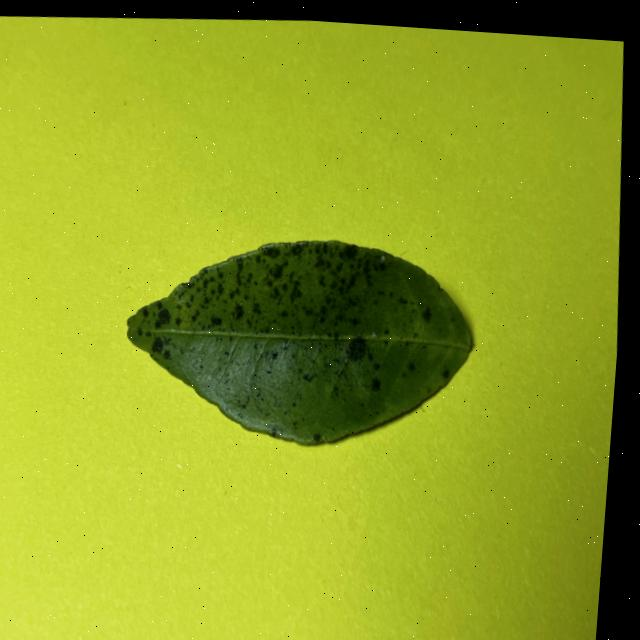sooty_mold: (127, 241, 471, 443)
